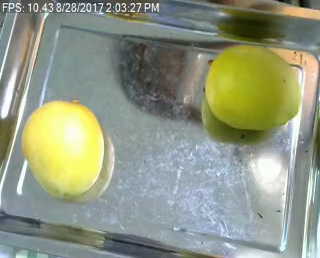Mango: (192, 40, 311, 137), (18, 102, 112, 199)
